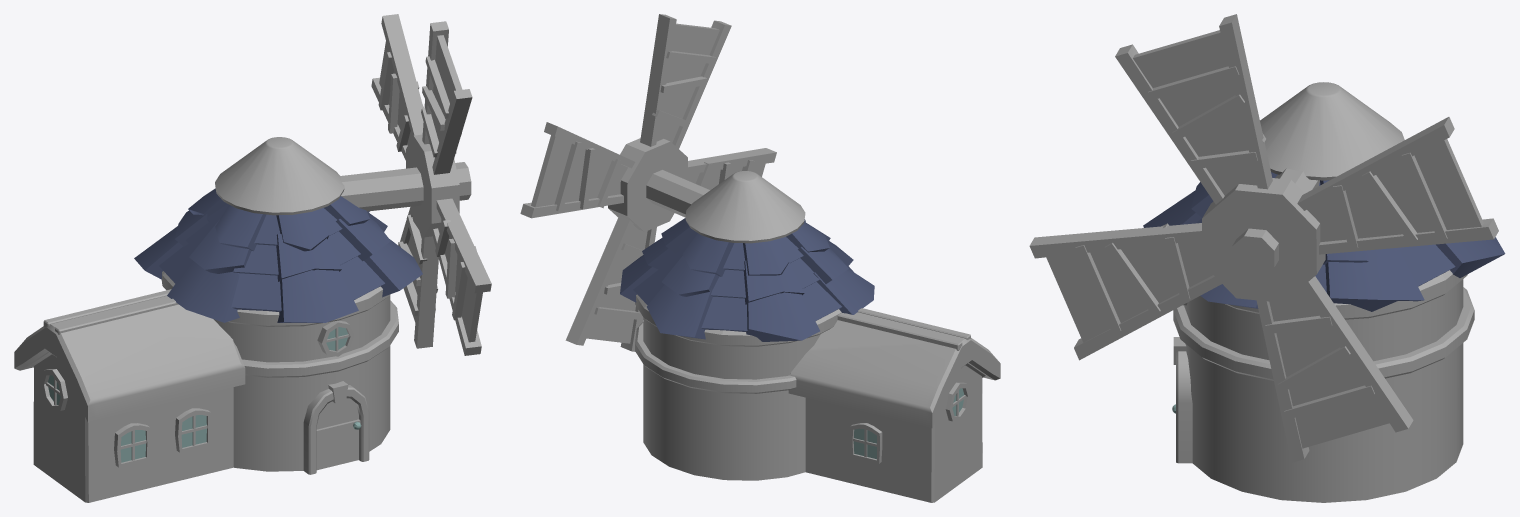
File: Windmill.fbx
3 views of the same model, side by side, from view 1: azimuth 30°, elevation 25°; view 2: azimuth 150°, elevation 25°; view 3: azimuth 270°, elevation 25° (orthographic). The views are drawn at different scales.
Parts seen in each view (by area): view 1: Windmill; view 2: Windmill; view 3: Windmill.
Boxes of the visible parts, left/top/right/bottom form: Windmill: left=14, top=14, right=491, bottom=502; Windmill: left=520, top=14, right=1000, bottom=502; Windmill: left=1029, top=14, right=1505, bottom=502.
Bounding box in the file's own units: 358 × 333 × 287.
